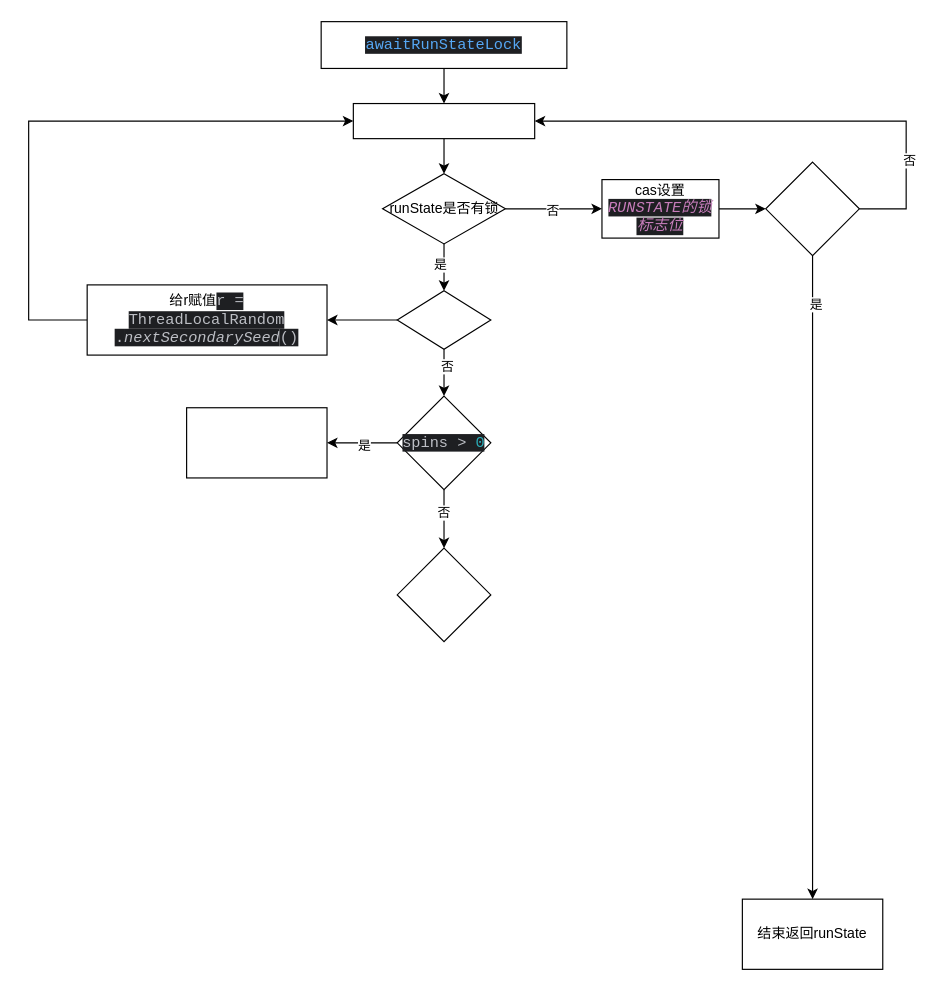
The diagram is 936 pixels wide and 990 high, and some of its shapes have lost their labels. Here are the shapes that lost their labels. From the top down, the centre of each, then its label:
At [443,120]: "开始自旋".
At [812,208]: "是否cas设置成功".
At [443,319]: "r == 0".
